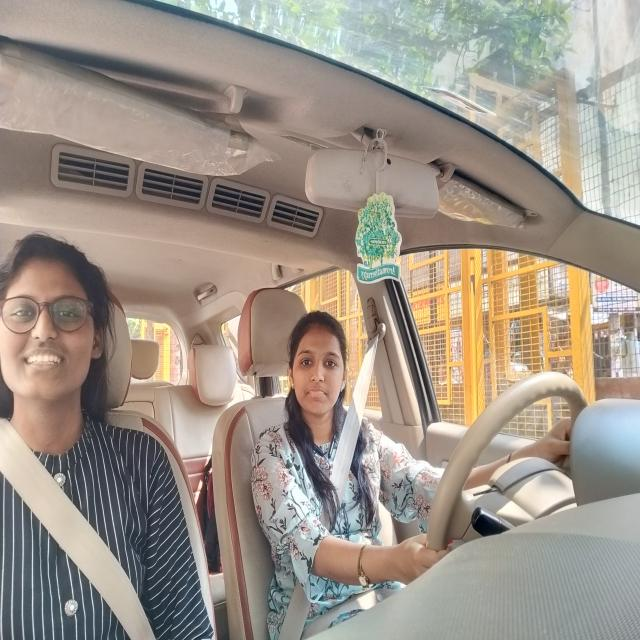person: (5, 248, 100, 397), (294, 318, 347, 410)
